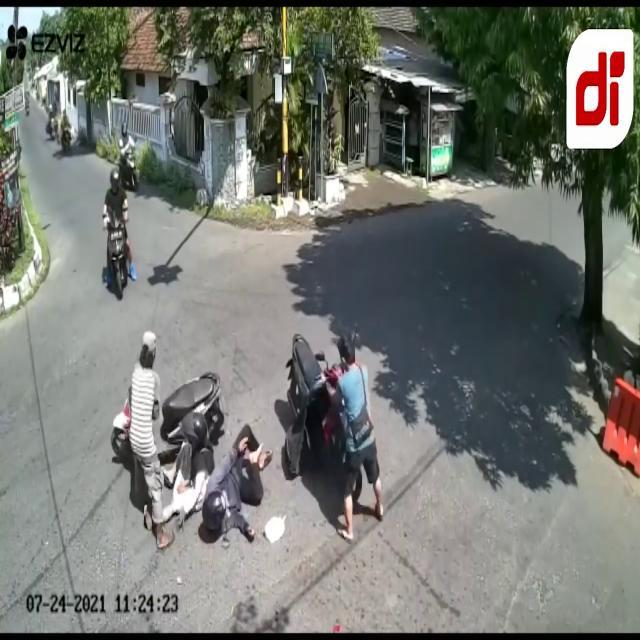multiple_accident: (95, 331, 400, 562)
normal: (56, 167, 161, 308)
